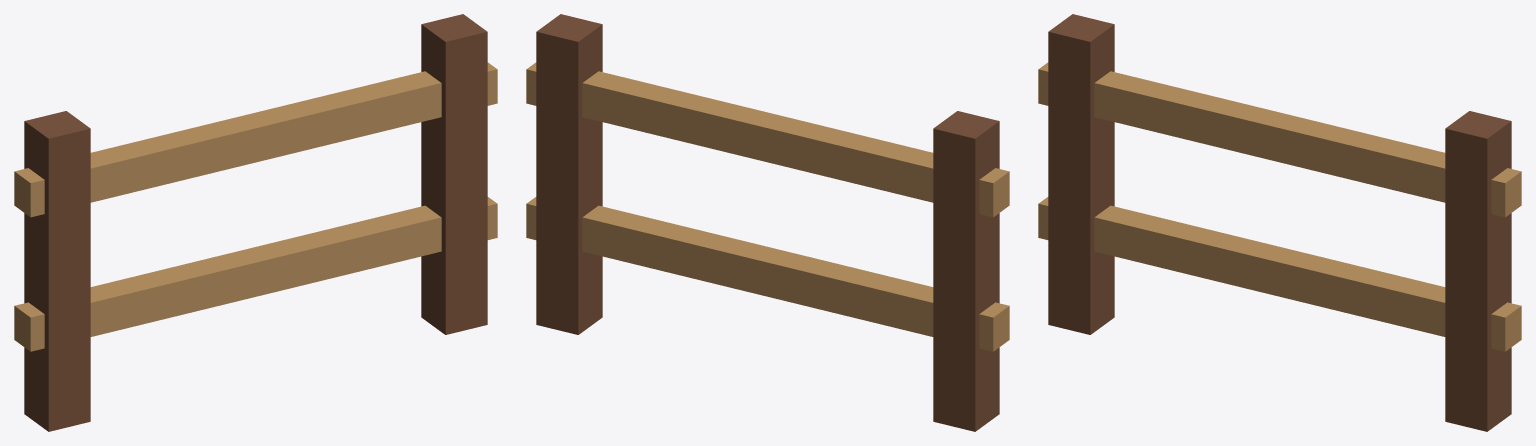
The model's file is wood_fence.glb.
The picture shows the model from 3 angles, left to right: view 1: azimuth 30°, elevation 25°; view 2: azimuth 150°, elevation 25°; view 3: azimuth 330°, elevation 25°; orthographic projection.
Visible parts, largest first — view 1: wood_fence; view 2: wood_fence; view 3: wood_fence.
Boxes of the visible parts, x1,y1,x2,y2 form: wood_fence: (14, 14, 497, 431); wood_fence: (526, 14, 1009, 431); wood_fence: (1038, 14, 1521, 431).
Bounding box in the file's own units: 2 × 1.2 × 0.18.
